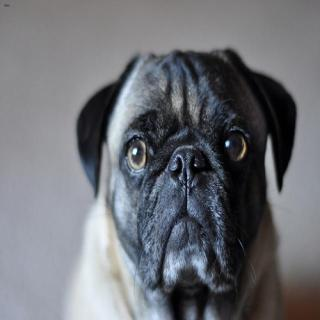dog: (73, 43, 300, 299)
nose: (166, 145, 207, 190)
